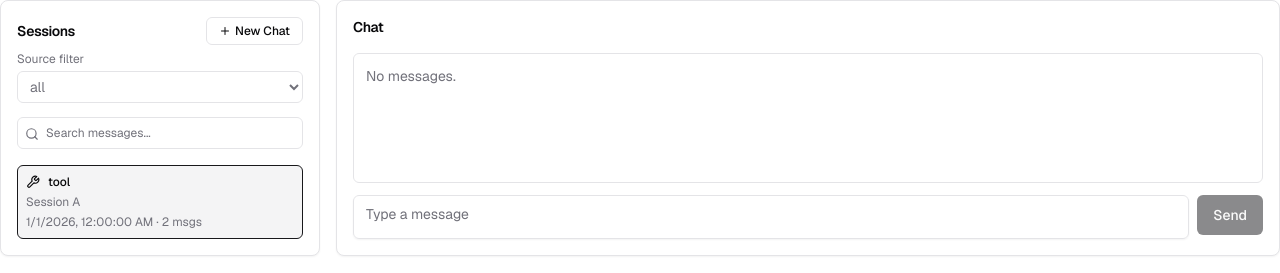
Test: chat search UI › shows no-results message when search returns empty
Expected: the text "Session A" is shown, x1=26 y1=194 x2=80 y2=210
Type "nonexistent" into the field with placeholder "Search messages...".
click(160, 133); type("nonexistent")  # box x1=17 y1=117 x2=303 y2=149
Wait 350 ms
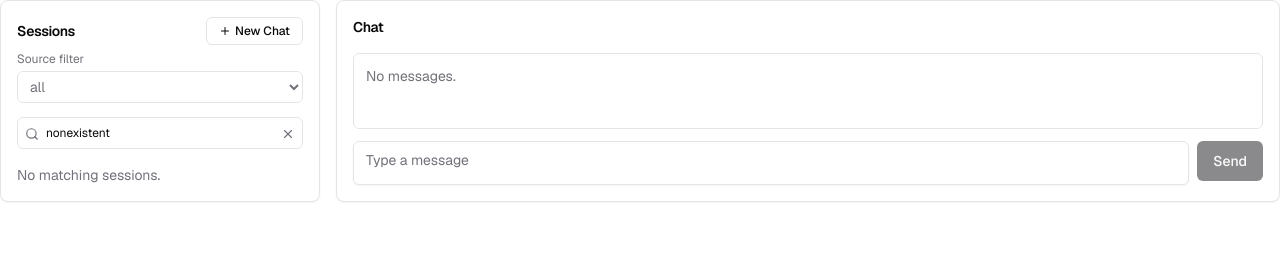
Result: the text "No matching sessions." is shown at x1=17 y1=166 x2=160 y2=184
